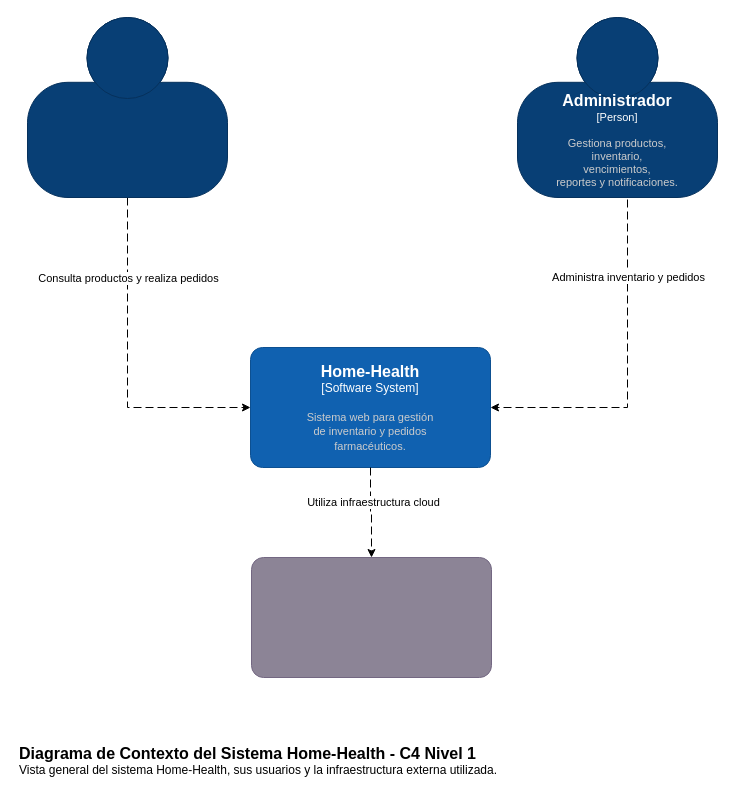
Some shapes in this 735 by 796 pixel diagram are drawn without their labels. The box of each missing label's shape, as (x1, y1, x2, y2) in pixels:
AWS Cloud [Software System] Infraestructura de despliegue del sistema.: (250, 556, 492, 678)
Cliente [Person] Consulta catálogo, realiza pedidos y consulta estados.: (26, 16, 228, 198)
